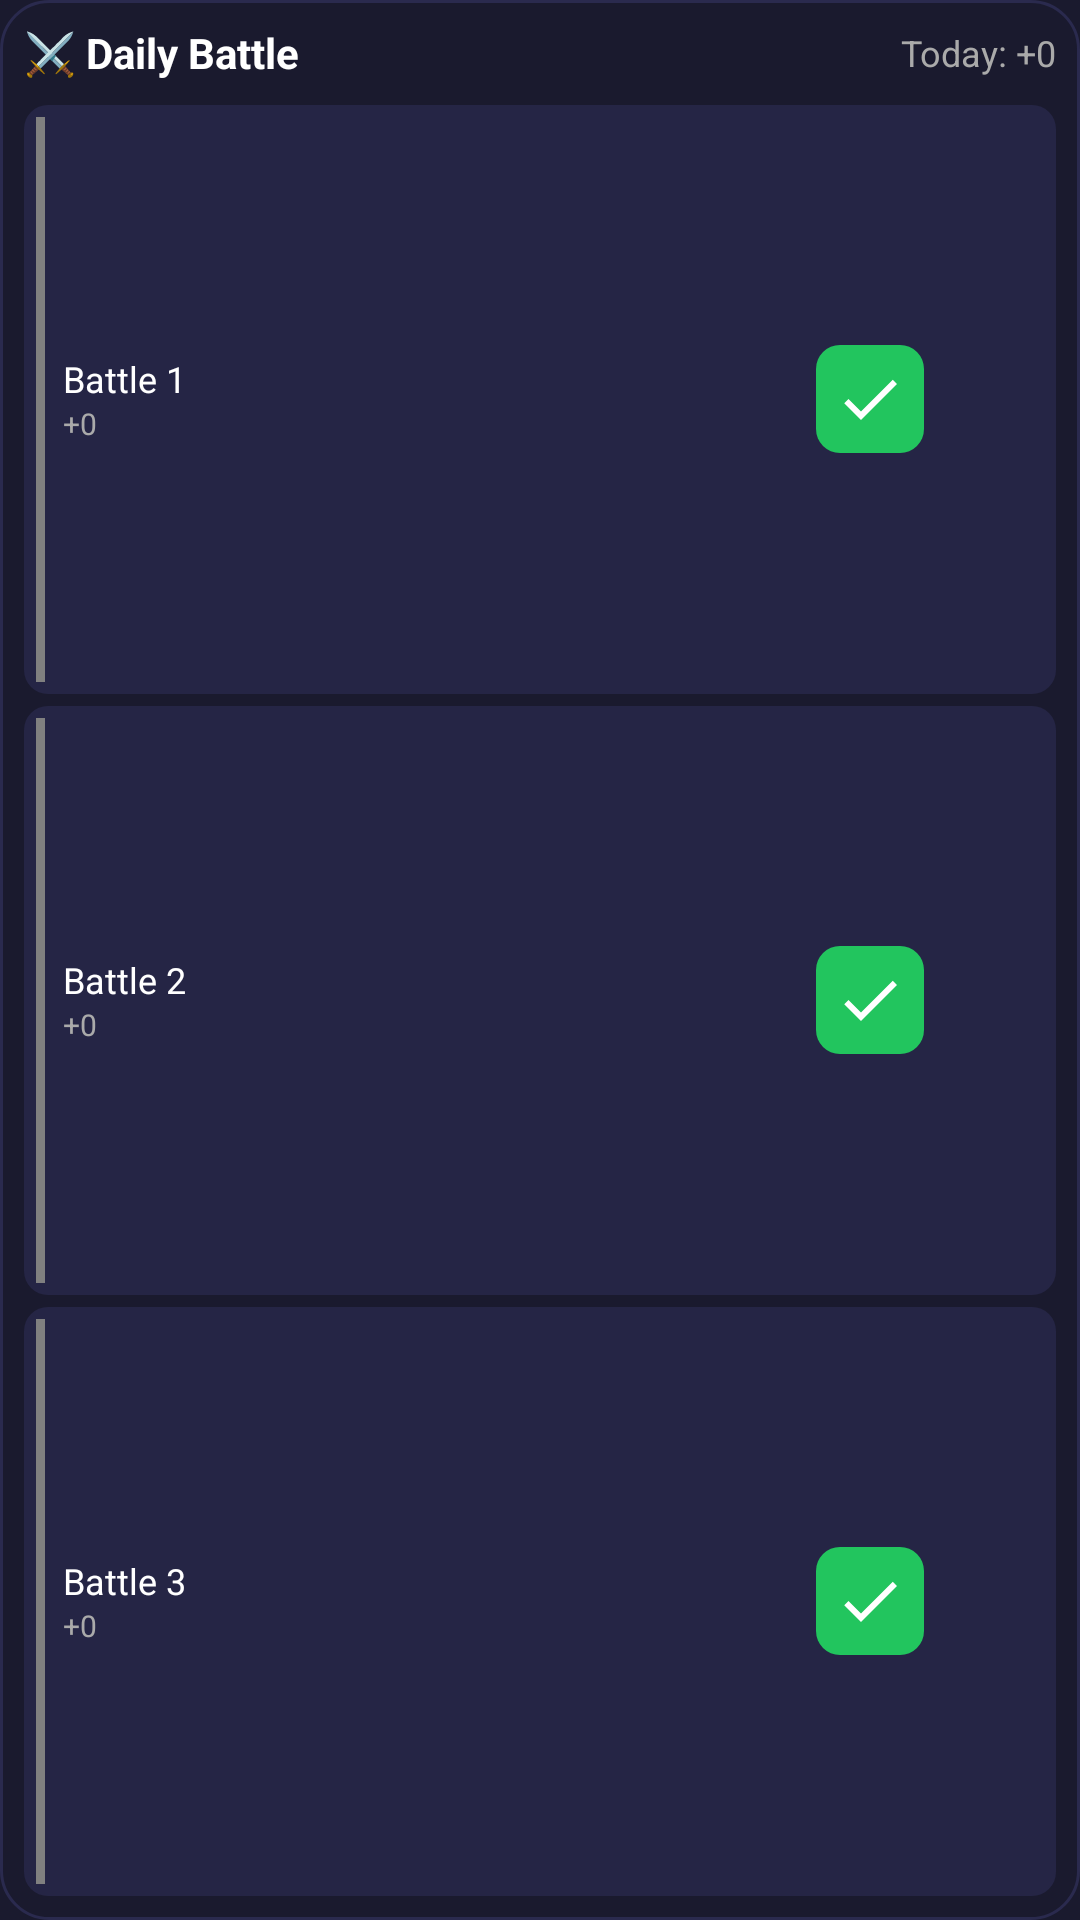

Screen size 1080 x 1920. Icon name, then its box in pixels as BBox(x1, y1, x2, y2):
Yes: BBox(816, 345, 924, 453), BBox(816, 946, 924, 1054), BBox(816, 1547, 924, 1655)
